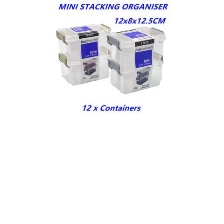plastic_box: (102, 20, 168, 98), (51, 16, 115, 91)
